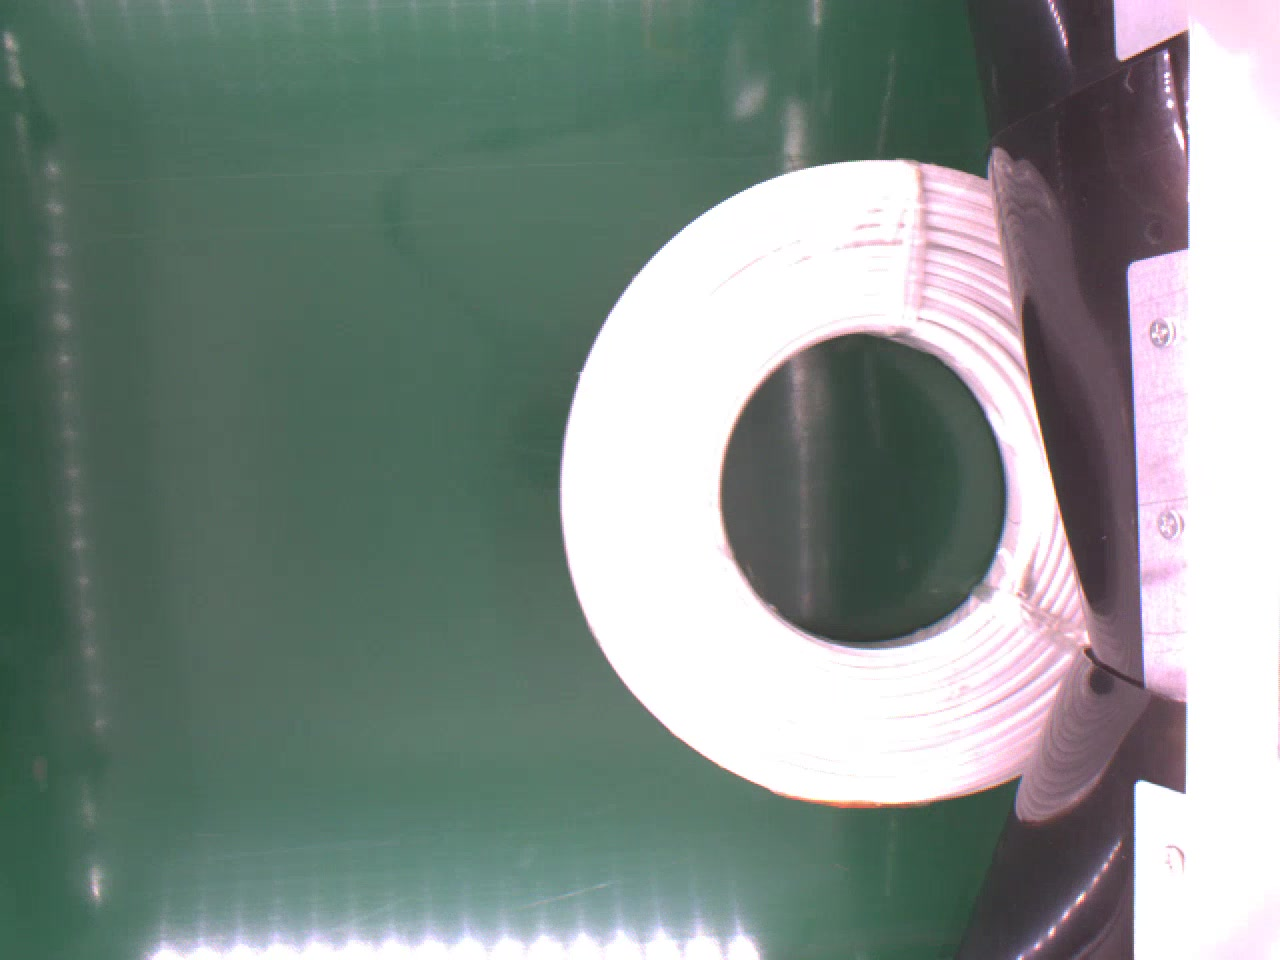white: (561, 157, 1097, 817)
